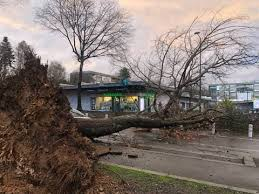obstacle: (5, 74, 242, 160)
